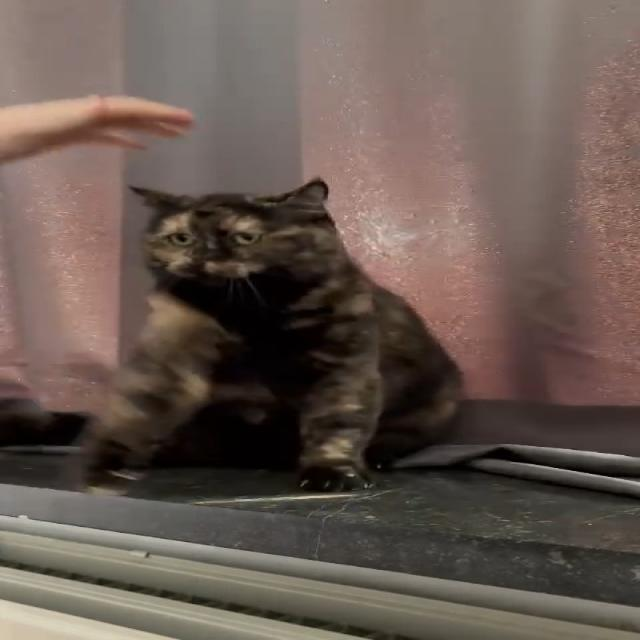authorized: (76, 176, 465, 493)
